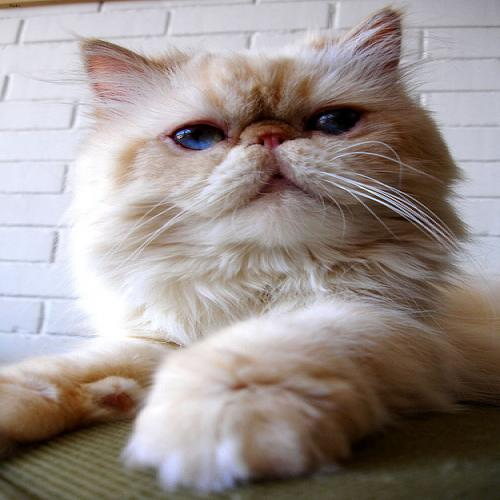persian: (57, 4, 461, 277)
